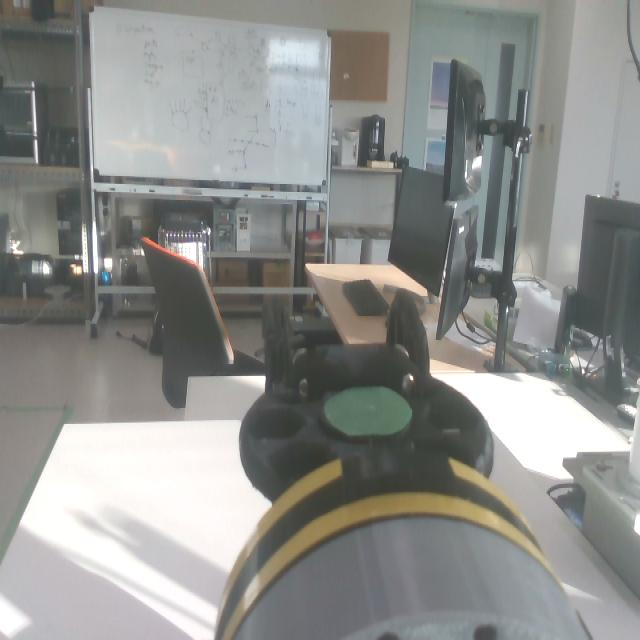body_connector: (231, 520, 590, 640)
connection: (211, 445, 594, 640)
leg: (213, 289, 557, 640)
leg_connector: (209, 449, 549, 640)
marker: (321, 384, 412, 436)
